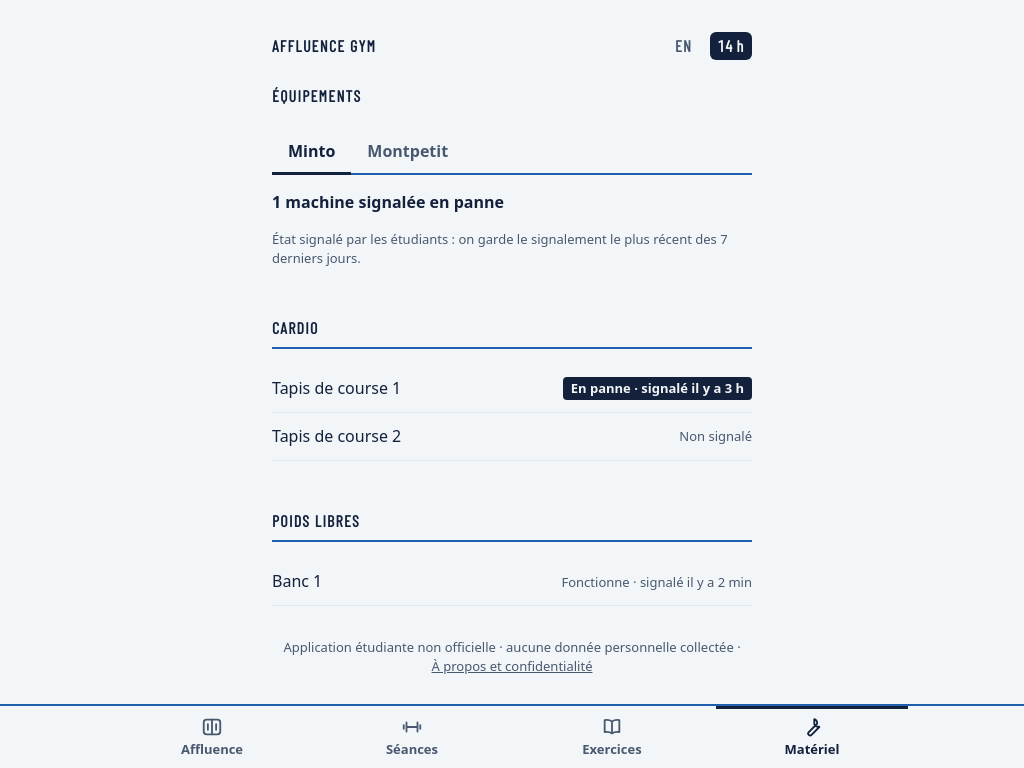
Test case: équipements › explique le délai quand la machine vient d'être signalée (429)
Step 1. Click the button with aria-label "Banc 1 : Fonctionne" → (302, 581), box [272,558,752,606]
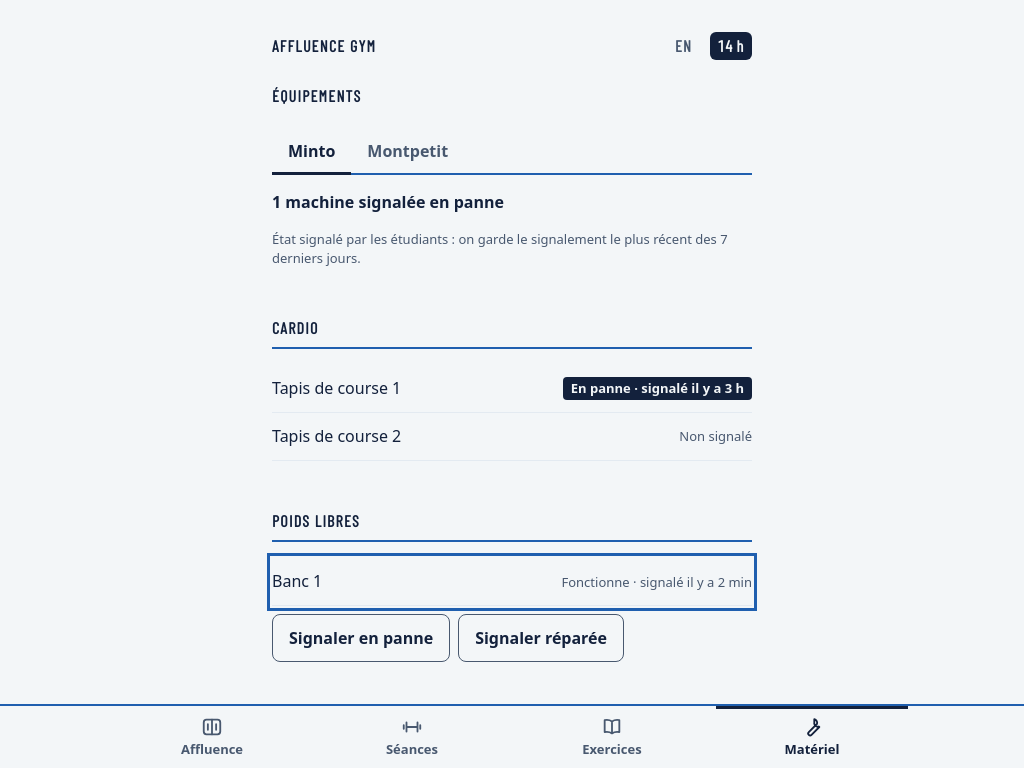
Step 2. Click the button "Signaler réparée" → (541, 638), box [458,614,624,662]
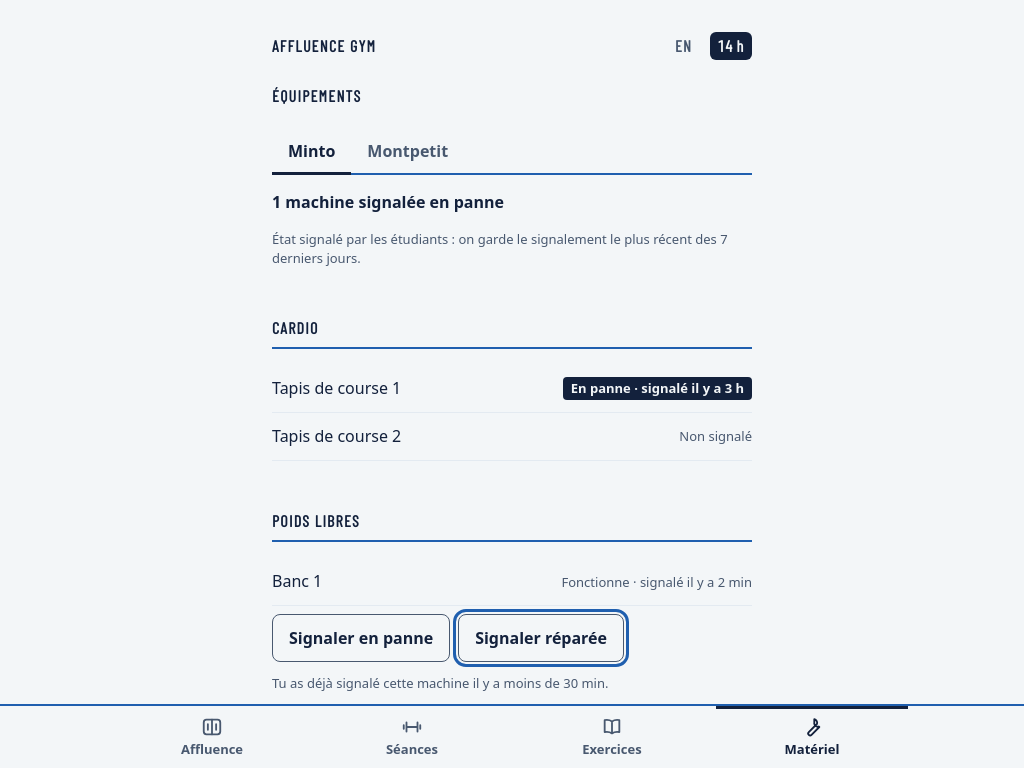
Expected: the text "Tu as déjà signalé cette machine il y a moins de 30 min." is shown, [272,674,608,692]
